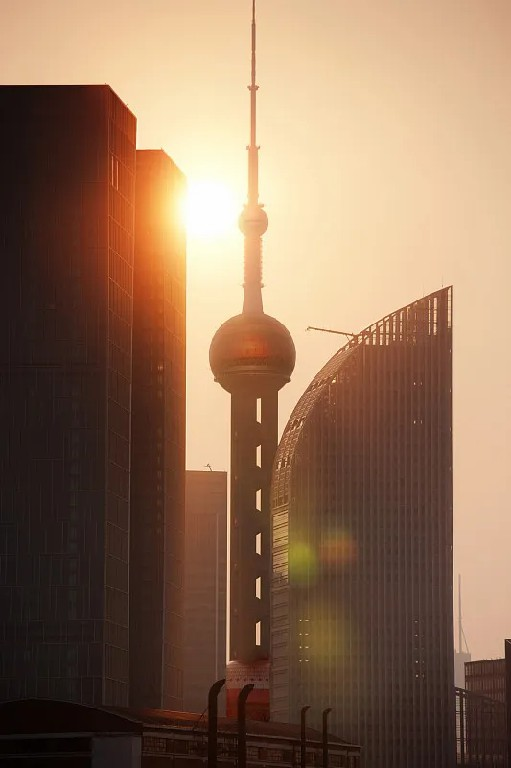Oriental: (208, 1, 297, 720)
